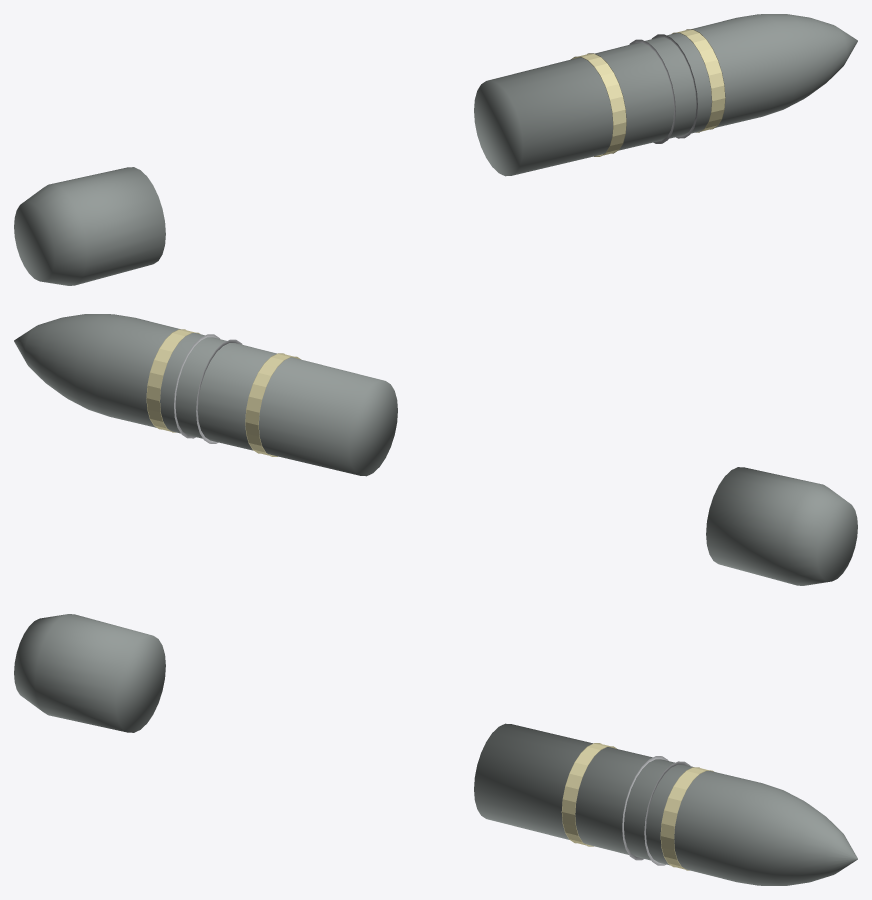
The model's file is RU_SLBM_R21_LOD1.fbx.
3 renders of one model, top to bottom at view 1: azimuth 30°, elevation 25°; view 2: azimuth 150°, elevation 25°; view 3: azimuth 330°, elevation 25°, orthographic.
Parts seen in each view (by area): view 1: WPN_RU_SLBM_R21_LOD1_Body, WPN_RU_SLBM_R21_LOD1_Tail, WPN_RU_SLBM_R21_LOD1_Marking, WPN_RU_SLBM_R21_LOD1_Detail; view 2: WPN_RU_SLBM_R21_LOD1_Body, WPN_RU_SLBM_R21_LOD1_Tail, WPN_RU_SLBM_R21_LOD1_Marking, WPN_RU_SLBM_R21_LOD1_Detail; view 3: WPN_RU_SLBM_R21_LOD1_Body, WPN_RU_SLBM_R21_LOD1_Tail, WPN_RU_SLBM_R21_LOD1_Marking, WPN_RU_SLBM_R21_LOD1_Detail.
Boxes of the visible parts, bbox=[...] form: WPN_RU_SLBM_R21_LOD1_Body: bbox=[474, 14, 857, 176]; WPN_RU_SLBM_R21_LOD1_Tail: bbox=[14, 167, 165, 285]; WPN_RU_SLBM_R21_LOD1_Marking: bbox=[571, 29, 725, 156]; WPN_RU_SLBM_R21_LOD1_Detail: bbox=[629, 34, 697, 143]; WPN_RU_SLBM_R21_LOD1_Body: bbox=[14, 314, 397, 476]; WPN_RU_SLBM_R21_LOD1_Tail: bbox=[706, 467, 857, 585]; WPN_RU_SLBM_R21_LOD1_Marking: bbox=[146, 329, 300, 456]; WPN_RU_SLBM_R21_LOD1_Detail: bbox=[174, 334, 242, 443]; WPN_RU_SLBM_R21_LOD1_Body: bbox=[474, 723, 857, 885]; WPN_RU_SLBM_R21_LOD1_Tail: bbox=[14, 614, 165, 732]; WPN_RU_SLBM_R21_LOD1_Marking: bbox=[561, 743, 713, 870]; WPN_RU_SLBM_R21_LOD1_Detail: bbox=[622, 756, 690, 865].
Bounding box in the file's own units: 13 × 1.47 × 1.47.
